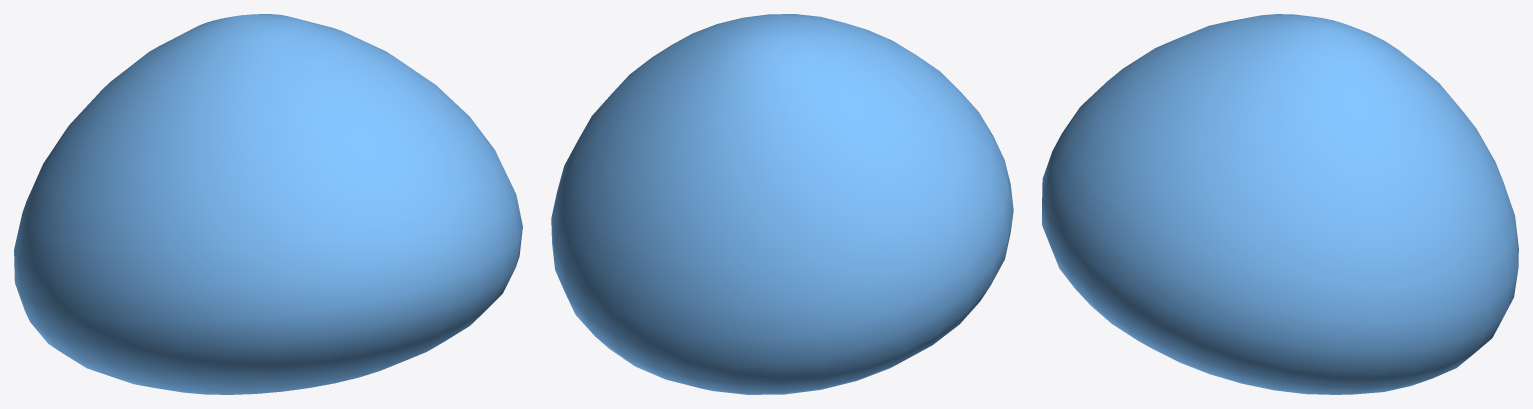
File: slime 1.fbx
3 views of the same model, side by side, from view 1: azimuth 30°, elevation 25°; view 2: azimuth 150°, elevation 25°; view 3: azimuth 270°, elevation 25° (orthographic). The views are drawn at different scales.
Parts seen in each view (by area): view 1: Outer Skin; view 2: Outer Skin; view 3: Outer Skin.
Boxes of the visible parts, x1=… form: Outer Skin: x1=14, y1=14, x2=522, y2=394; Outer Skin: x1=551, y1=14, x2=1013, y2=394; Outer Skin: x1=1042, y1=14, x2=1518, y2=394.
Bounding box in the file's own units: 169 × 126 × 167.
